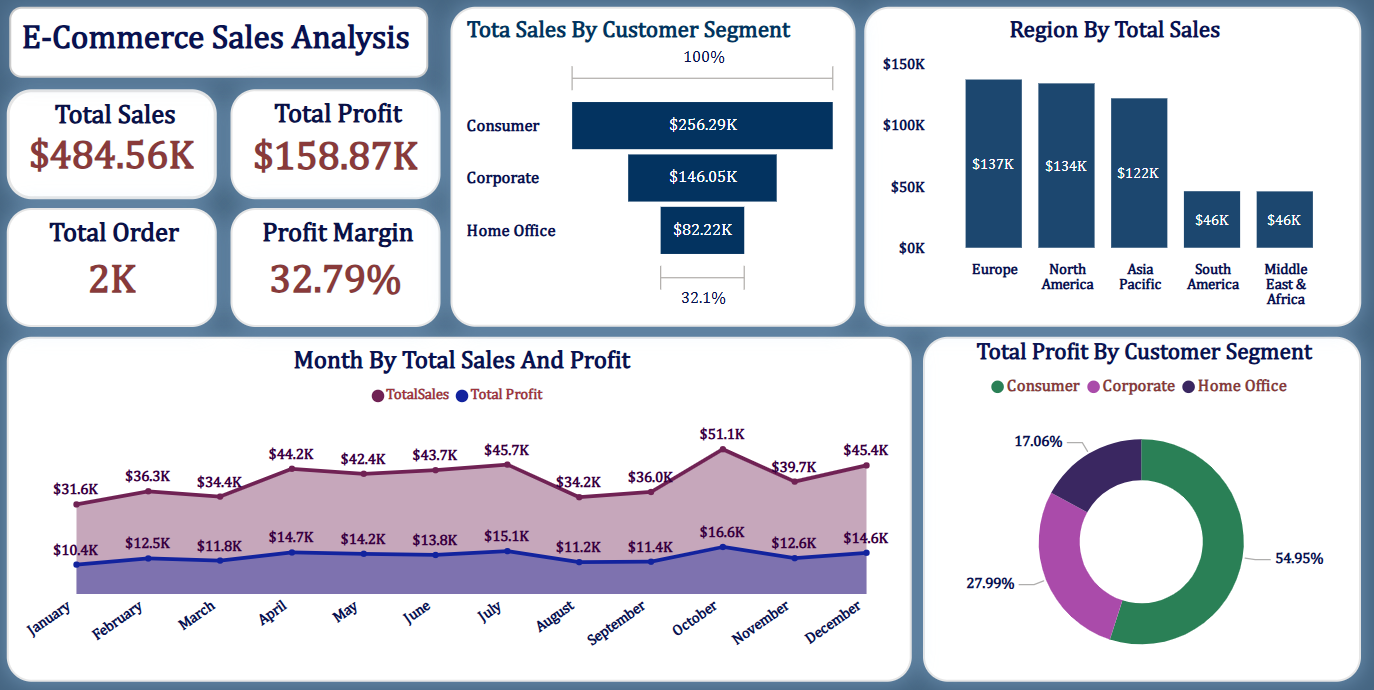

Layout of this report page (visuals, bound fields, positions):
{"tool":"powerbi","page":{"name":"Page 1","canvas":[1100,555],"ordinal":0},"visuals":[{"type":"cardVisual","title":"Total Sales","fields":{"Data":["global_ecommerce_sales.TotalSales"]},"box":[7,73,168,88],"z":0},{"type":"donutChart","title":" Total Profit By Customer Segment","fields":{"Category":["global_ecommerce_sales.Customer_Segment"],"Y":["Sum(global_ecommerce_sales.Profit)"]},"box":[740,271,350,276],"z":1000},{"type":"clusteredColumnChart","title":"Region By Total Sales","fields":{"Category":["global_ecommerce_sales.Region"],"Y":["global_ecommerce_sales.TotalSales"]},"box":[693,7,397,256],"z":2000},{"type":"lineChart","title":"Month By Total Sales And Profit","fields":{"Y":["global_ecommerce_sales.TotalSales","global_ecommerce_sales.Total Profit"],"Category":["global_ecommerce_sales.Order_Date.Variation.Date Hierarchy.Month"]},"box":[7,271,724,276],"z":3000},{"type":"textbox","box":[9,7,331,56],"z":4000},{"type":"cardVisual","title":"Total Profit","fields":{"Data":["global_ecommerce_sales.Total Profit"]},"box":[186,73,168,88],"z":5000},{"type":"cardVisual","title":"Total Order","fields":{"Data":["global_ecommerce_sales.Total Order"]},"box":[7,168,168,95],"z":6000},{"type":"cardVisual","title":"Profit Margin","fields":{"Data":["global_ecommerce_sales.fff"]},"box":[186,168,168,95],"z":7000},{"type":"funnel","title":"Tota Sales By Customer Segment","fields":{"Category":["global_ecommerce_sales.Customer_Segment"],"Y":["global_ecommerce_sales.TotalSales"]},"box":[362,7,324,256],"z":8000}]}

Visuals, with their boxes in screenshot pixels (x1, y1, x2, y2), scaled from the page's 1100x555 canvas onto the 1374x690 screenshot:
"Total Sales" cardVisual: (left=9, top=91, right=219, bottom=200)
" Total Profit By Customer Segment" donutChart: (left=924, top=337, right=1362, bottom=680)
"Region By Total Sales" clusteredColumnChart: (left=866, top=9, right=1362, bottom=327)
"Month By Total Sales And Profit" lineChart: (left=9, top=337, right=913, bottom=680)
textbox: (left=11, top=9, right=425, bottom=78)
"Total Profit" cardVisual: (left=232, top=91, right=442, bottom=200)
"Total Order" cardVisual: (left=9, top=209, right=219, bottom=327)
"Profit Margin" cardVisual: (left=232, top=209, right=442, bottom=327)
"Tota Sales By Customer Segment" funnel: (left=452, top=9, right=857, bottom=327)
